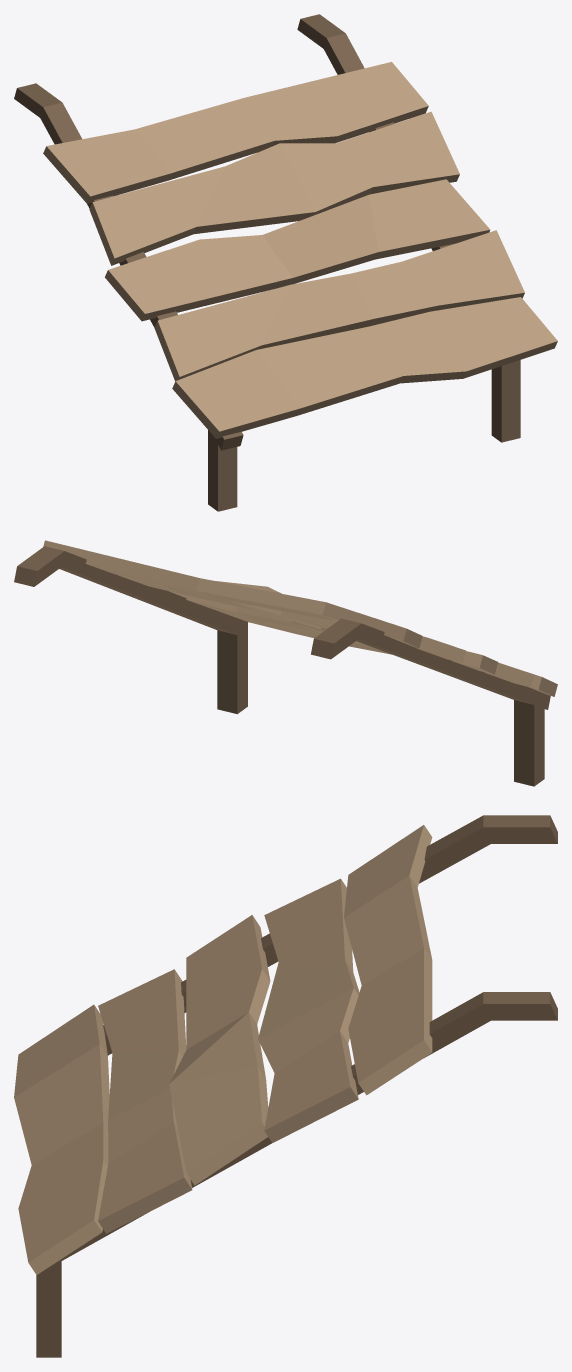
File: Stairs_4.fbx
3 views of the same model, one above another, from view 1: azimuth 30°, elevation 25°; view 2: azimuth 150°, elevation 25°; view 3: azimuth 270°, elevation 25° (orthographic). The views are drawn at different scales.
Parts seen in each view (by area): view 1: Stairs_4; view 2: Stairs_4; view 3: Stairs_4.
Boxes of the visible parts, <box> form: Stairs_4: <box>14,14,557,511</box>; Stairs_4: <box>14,540,557,786</box>; Stairs_4: <box>14,815,557,1357</box>.
Size of the model in its own units: 305 by 222 by 310.
1 material, 1 textured.
